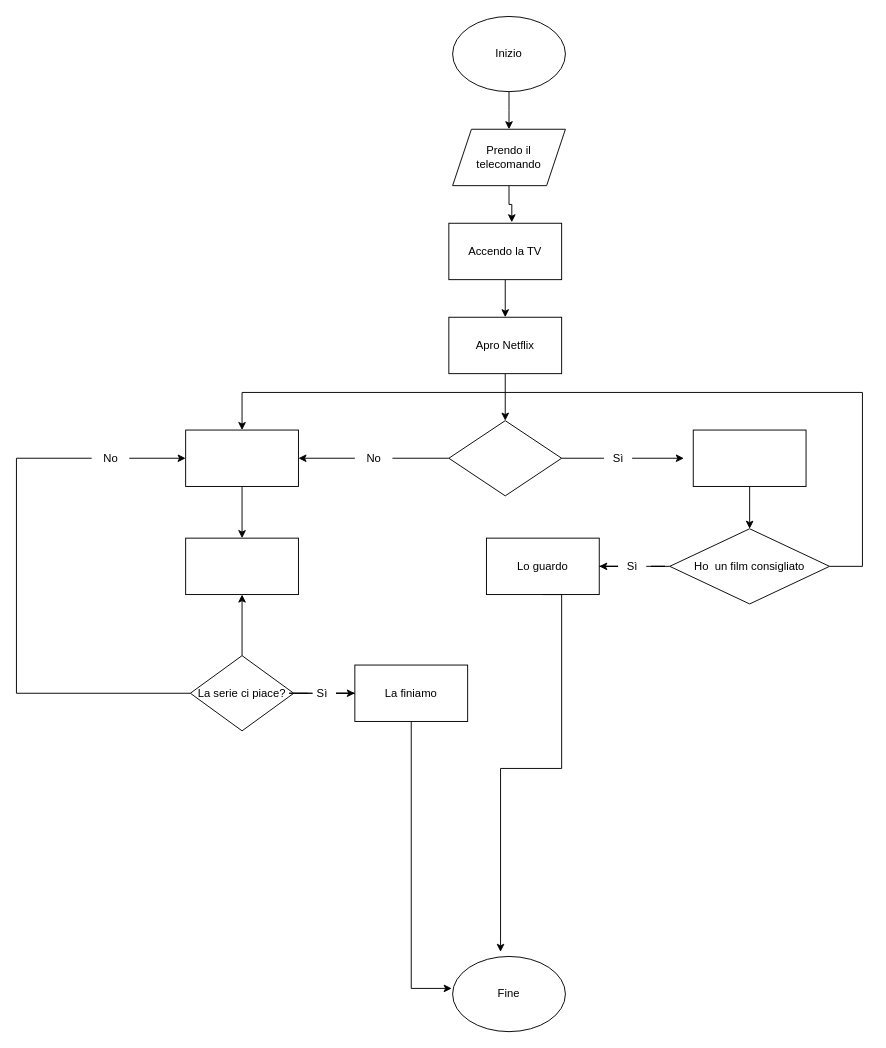
The diagram is 886 pixels wide and 1048 high, and some of its shapes have lost their labels. Here are the shapes that lost their labels. From the top down, the box of each, then its label:
(185, 429, 298, 486): Guardo una serie
(448, 420, 562, 496): Sono stanco?
(692, 429, 806, 486): Guardo un film
(185, 537, 298, 595): Scegli una serie
